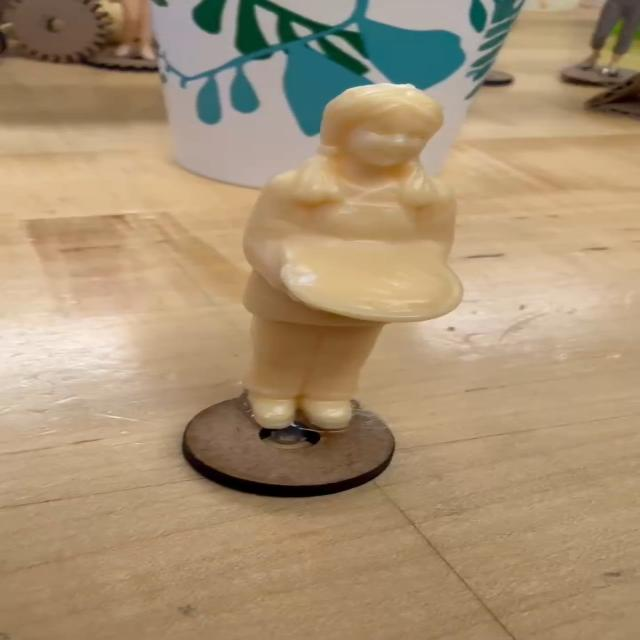Unauthorized: (142, 71, 512, 493)
